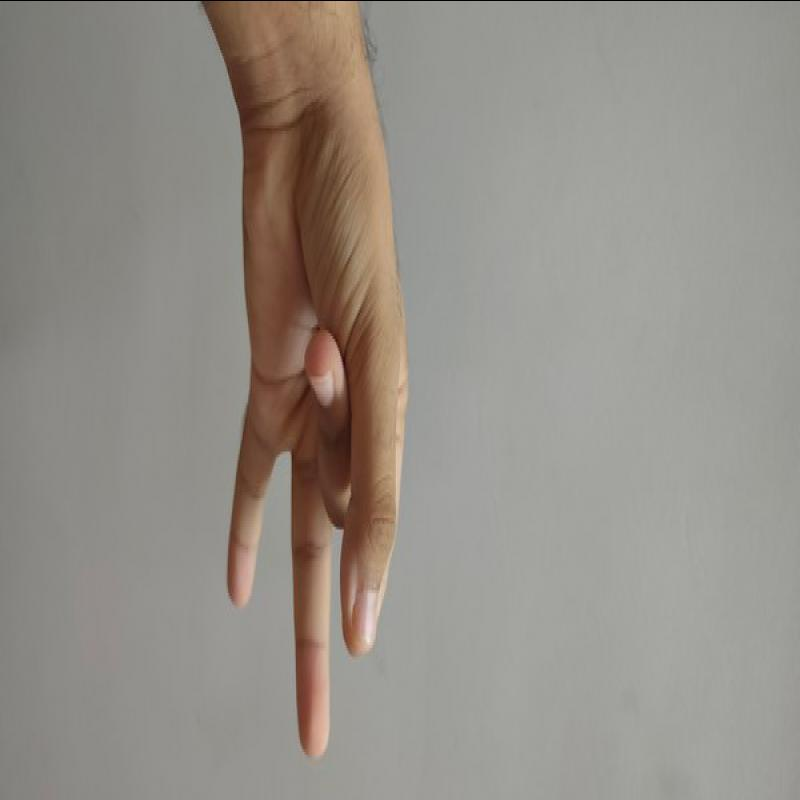Katakam: (167, 87, 429, 780)
